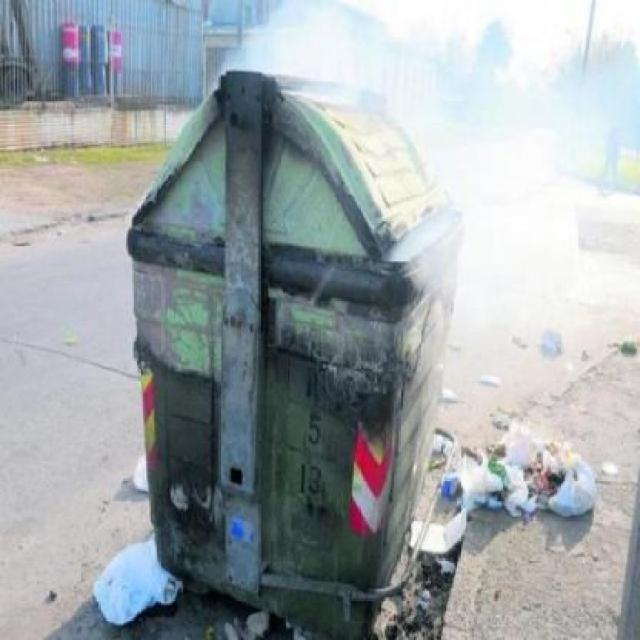garbage: (440, 394, 616, 627), (397, 502, 458, 638), (98, 522, 170, 635)
